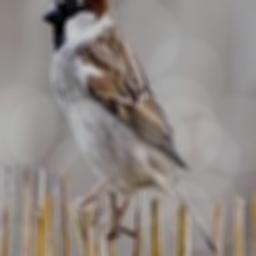Sparrow: (42, 0, 218, 253)
